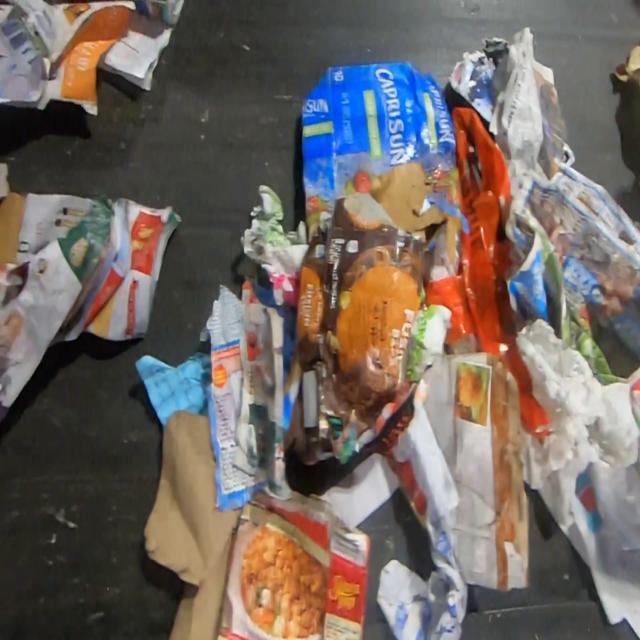cardboard: (286, 193, 428, 466), (301, 61, 469, 281), (216, 489, 366, 639), (144, 410, 239, 639), (0, 193, 28, 267), (611, 45, 640, 88)
soft_plastic: (425, 105, 550, 438)
